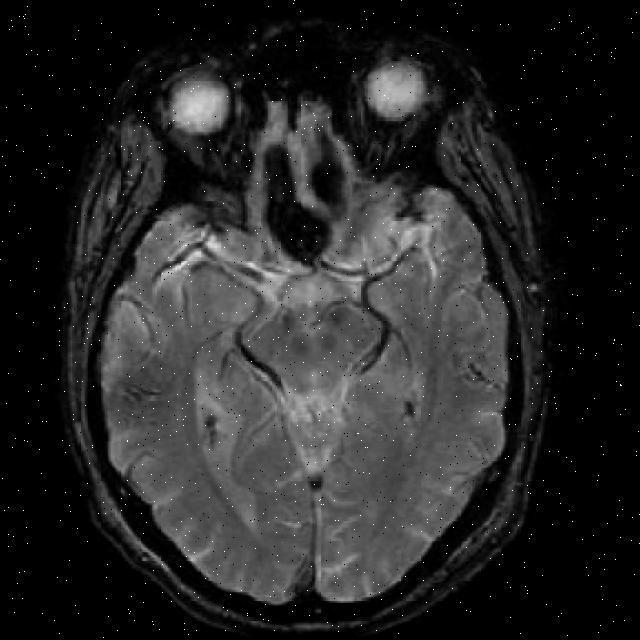MCI: (262, 137, 362, 255)
